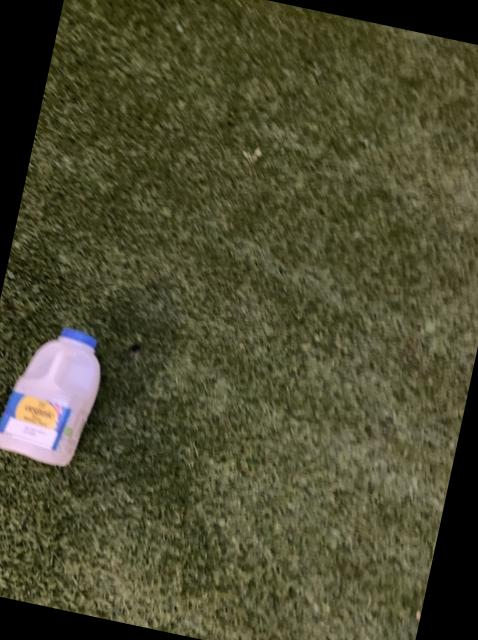plastic: (0, 326, 98, 462)
